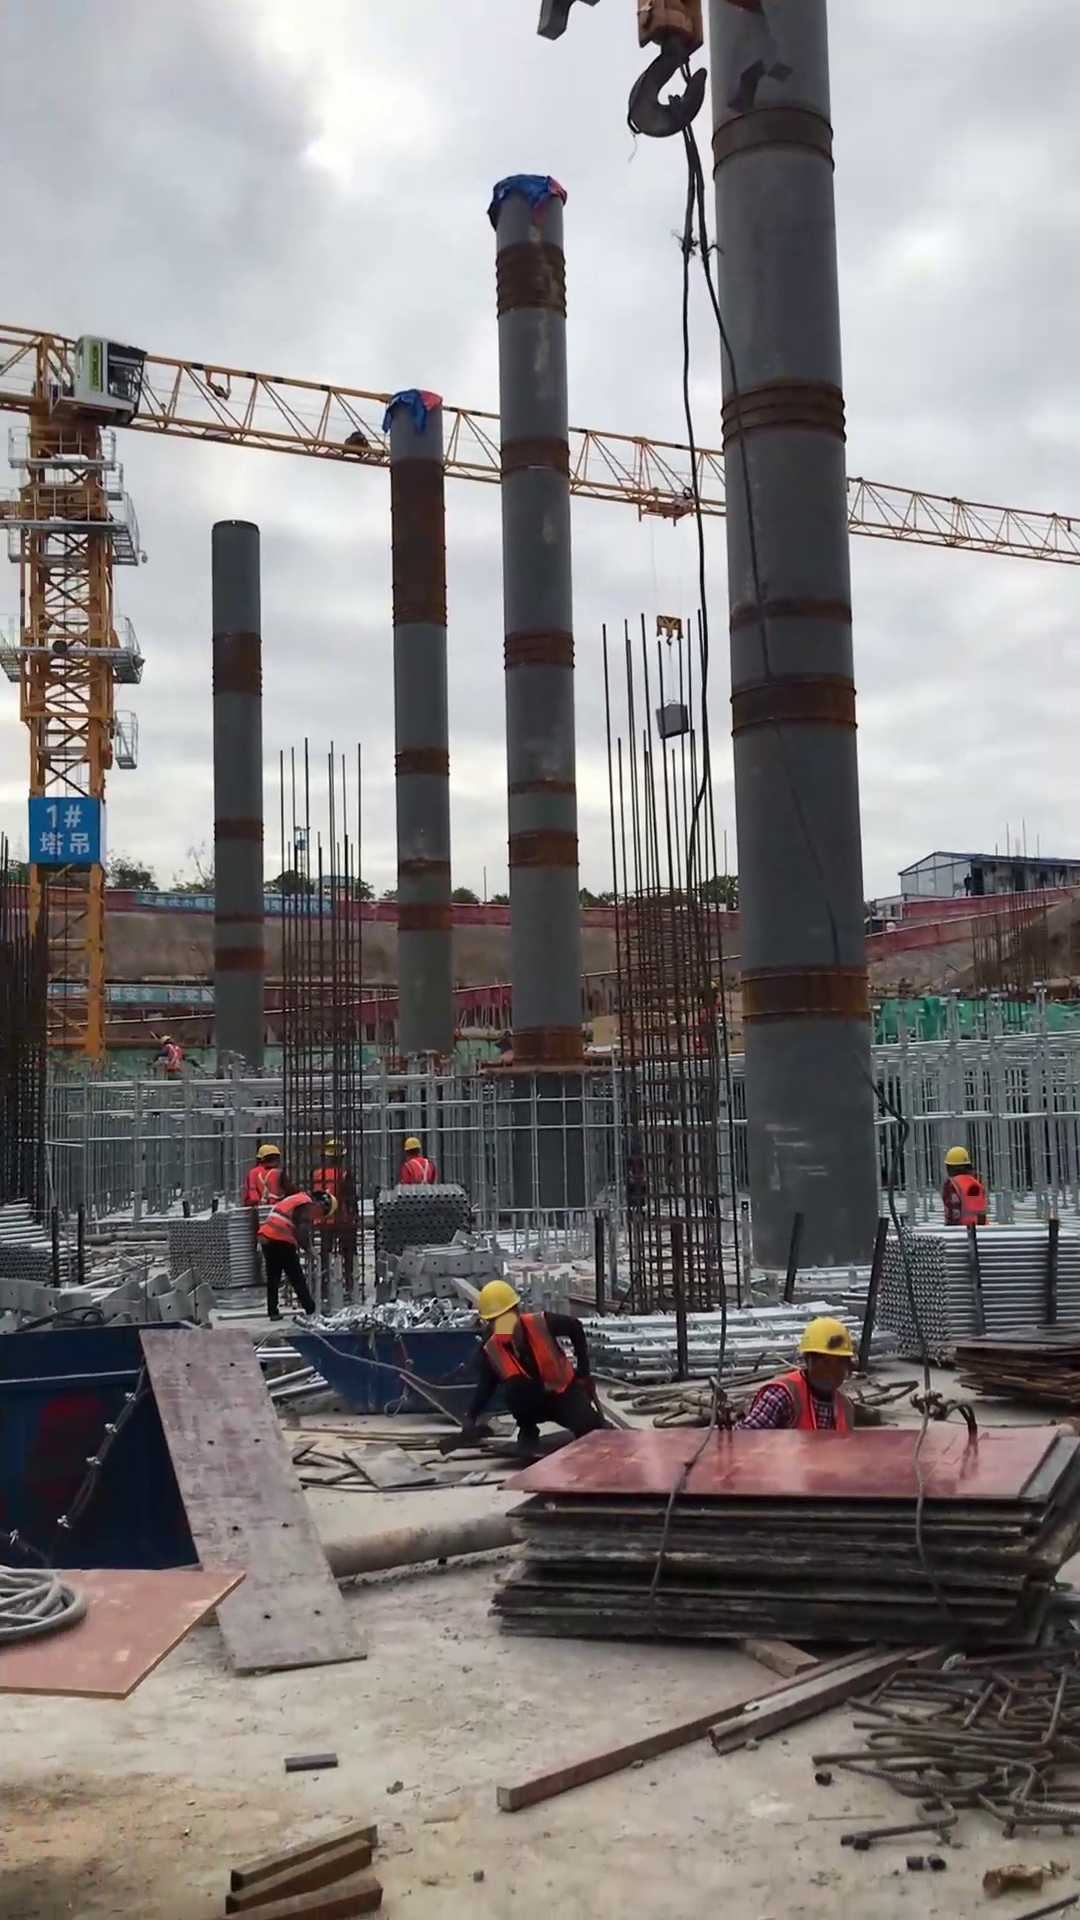board: (483, 1423, 1080, 1648), (951, 1322, 1080, 1417)
helmet: (796, 1315, 854, 1361), (475, 1278, 523, 1321), (942, 1144, 973, 1166), (323, 1138, 350, 1161), (319, 1190, 339, 1219), (255, 1143, 281, 1161), (404, 1135, 421, 1152), (158, 1032, 172, 1045)
hook: (536, 1, 771, 141), (655, 611, 684, 650)
hopper: (1, 1311, 207, 1570), (278, 1326, 506, 1418)
person: (459, 1278, 608, 1450), (730, 1313, 860, 1430), (254, 1188, 340, 1321), (308, 1137, 360, 1308), (941, 1143, 991, 1226), (144, 1033, 195, 1079), (258, 1143, 296, 1204), (399, 1132, 438, 1184), (246, 1143, 270, 1208)
scaffold: (870, 1223, 1080, 1369), (583, 1301, 809, 1385), (166, 1204, 265, 1293), (1, 1198, 95, 1282), (375, 1182, 471, 1258)
slogan: (135, 886, 335, 921), (30, 795, 104, 866), (41, 982, 214, 1007)
vest: (477, 1310, 577, 1398), (762, 1368, 853, 1430), (256, 1190, 314, 1247), (312, 1163, 352, 1229), (947, 1171, 992, 1227), (254, 1164, 285, 1208), (402, 1156, 435, 1184), (245, 1164, 267, 1205), (164, 1043, 184, 1072)
